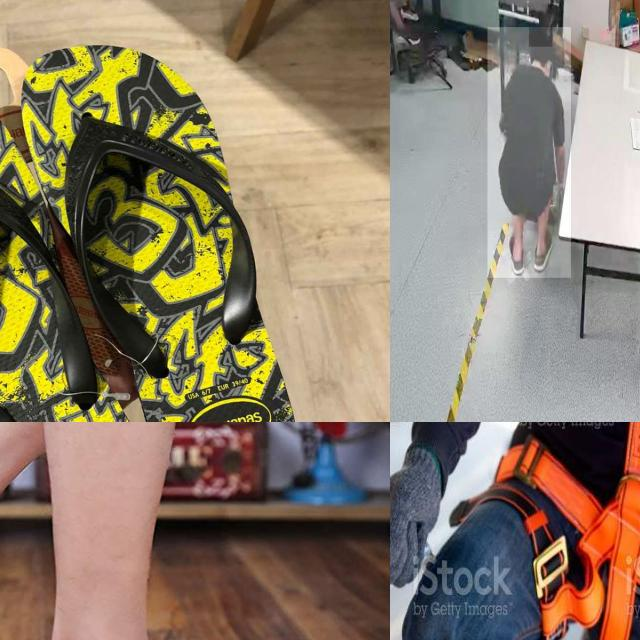Harness: (460, 422, 640, 640)
Sandals: (0, 32, 322, 422)
head_nohelmet: (529, 27, 553, 48)
person: (488, 27, 572, 279)
shoes: (531, 221, 556, 273), (504, 222, 528, 275)
